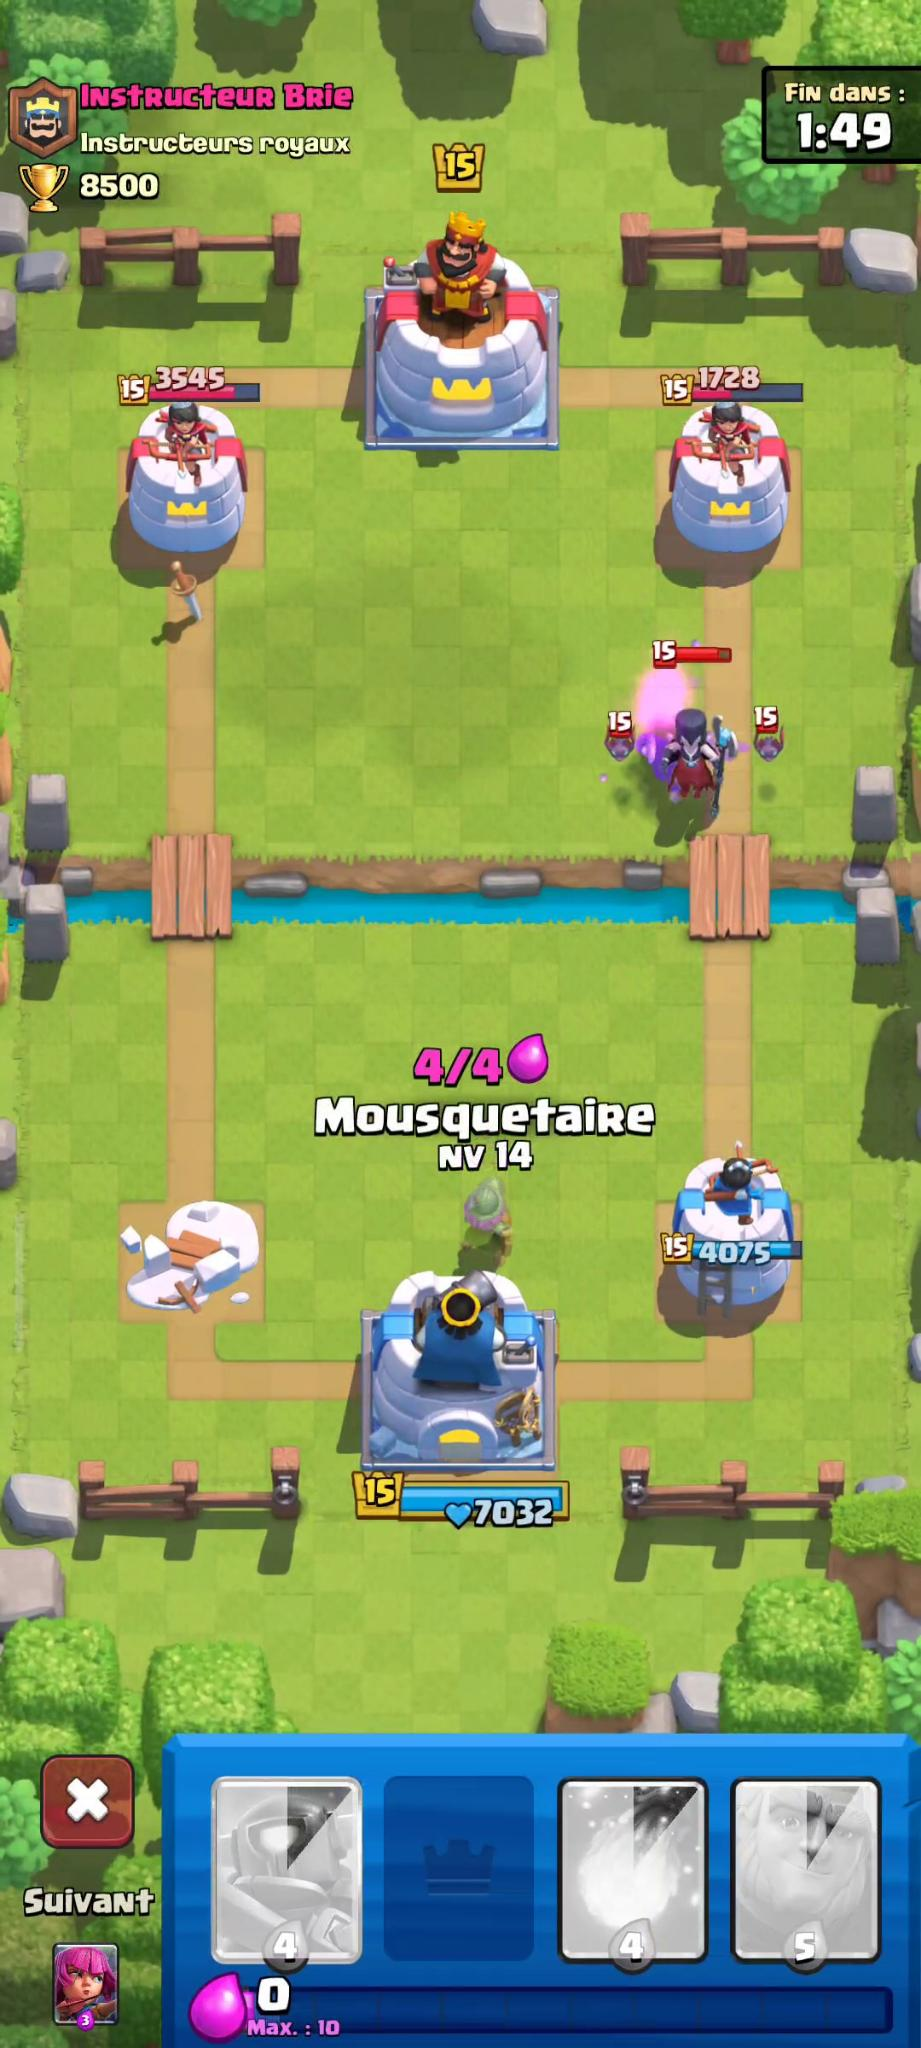bat: (588, 700, 651, 765), (745, 703, 803, 767)
mousquetaire: (423, 1164, 546, 1289)
